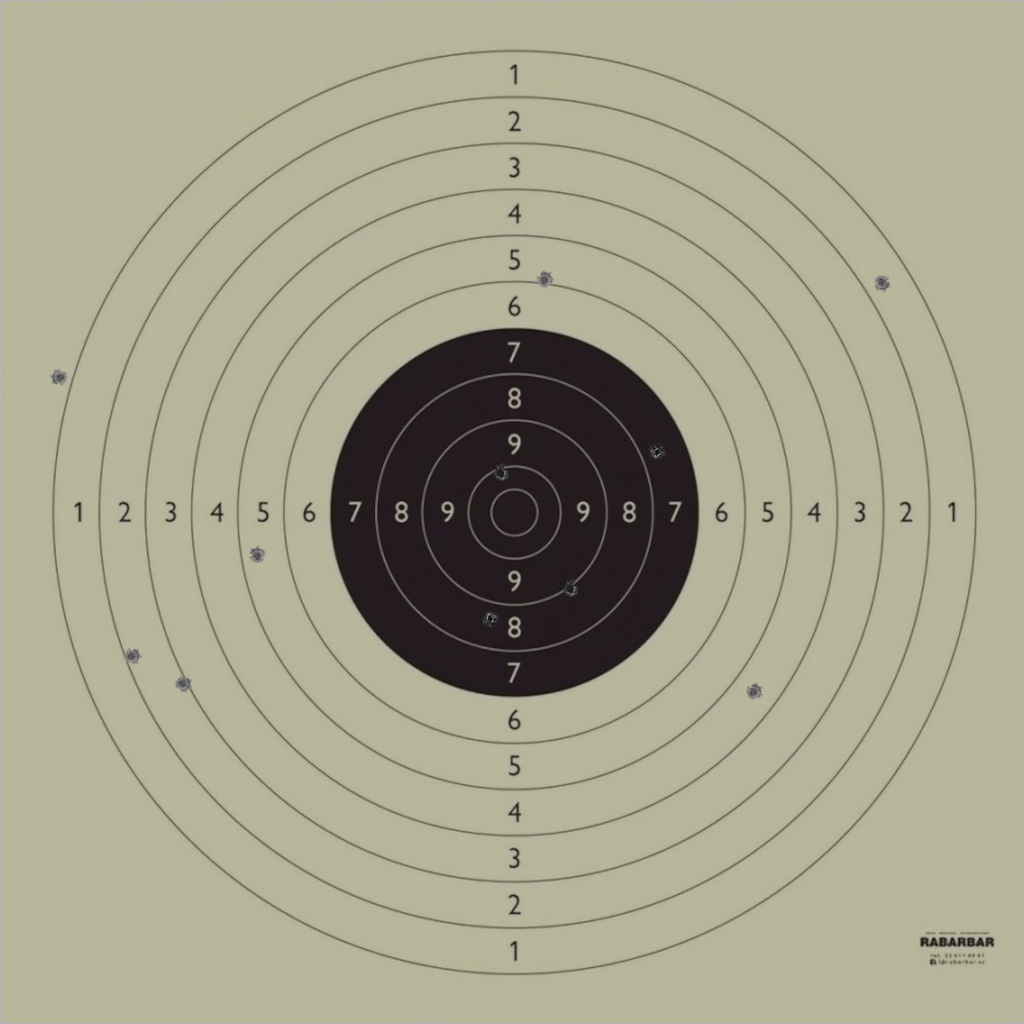0 punktow: (50, 368, 69, 387)
1 punkt: (873, 273, 891, 292)
10 punktow: (492, 464, 510, 482)
2 punkty: (123, 647, 141, 665)
3 punkty: (174, 675, 192, 693)
4 punkty: (745, 683, 763, 701)
5 punktow: (248, 546, 267, 565)
6 punktow: (536, 271, 554, 289)
7 punktow: (648, 443, 666, 462)
8 punktow: (481, 609, 499, 628)
9 punktow: (561, 580, 580, 598)
